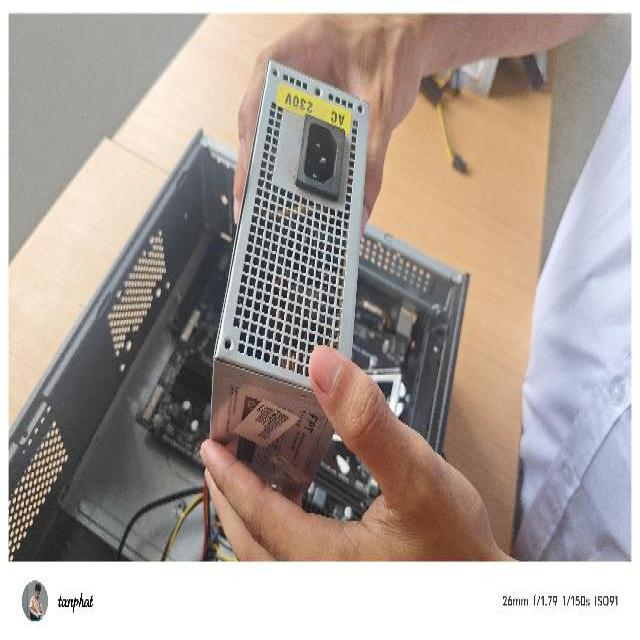PSU: (208, 52, 372, 500)
